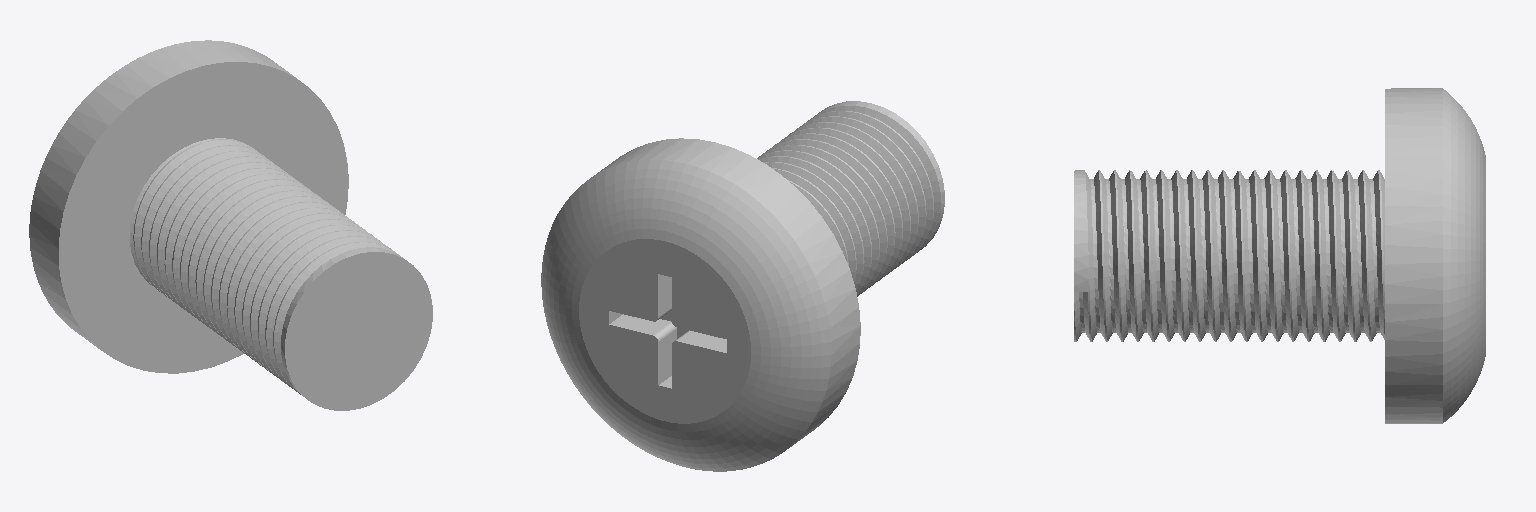
Rendered from screw_1-4.obj.
3 views of the same model, side by side, from view 1: azimuth 30°, elevation 25°; view 2: azimuth 150°, elevation 25°; view 3: azimuth 270°, elevation 25° (orthographic).
Visible parts, largest first — view 1: screw_1by4; view 2: screw_1by4; view 3: screw_1by4.
Part boxes in pixels (bbox=[...]): screw_1by4: bbox=[29, 40, 432, 410]; screw_1by4: bbox=[541, 101, 944, 471]; screw_1by4: bbox=[1074, 88, 1485, 423].
Size of the model in its own units: 6.86 by 6.86 by 8.42.